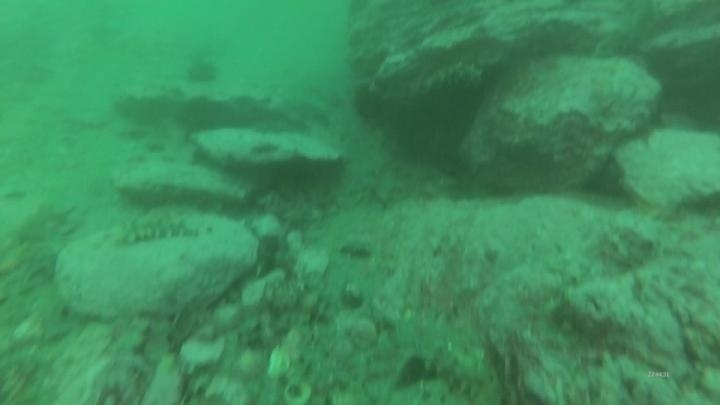echinus: (350, 83, 389, 127), (184, 56, 221, 88)
holothurian: (374, 304, 503, 403), (113, 211, 203, 249), (420, 59, 489, 93)
